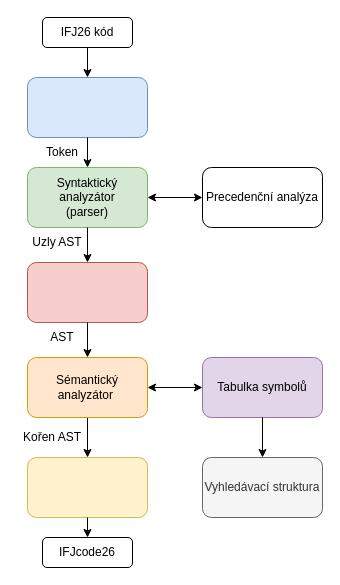
Image size: 340x585. Some labels were removed from this diagram. Here are the shapes that lost their labels. From the top down, the box of each, then its label:
(26, 76, 148, 138): Lexikální analyzátor (scanner)
(26, 262, 148, 322): Abstraktní syntaktický strom
(26, 456, 148, 518): generátor kódu
